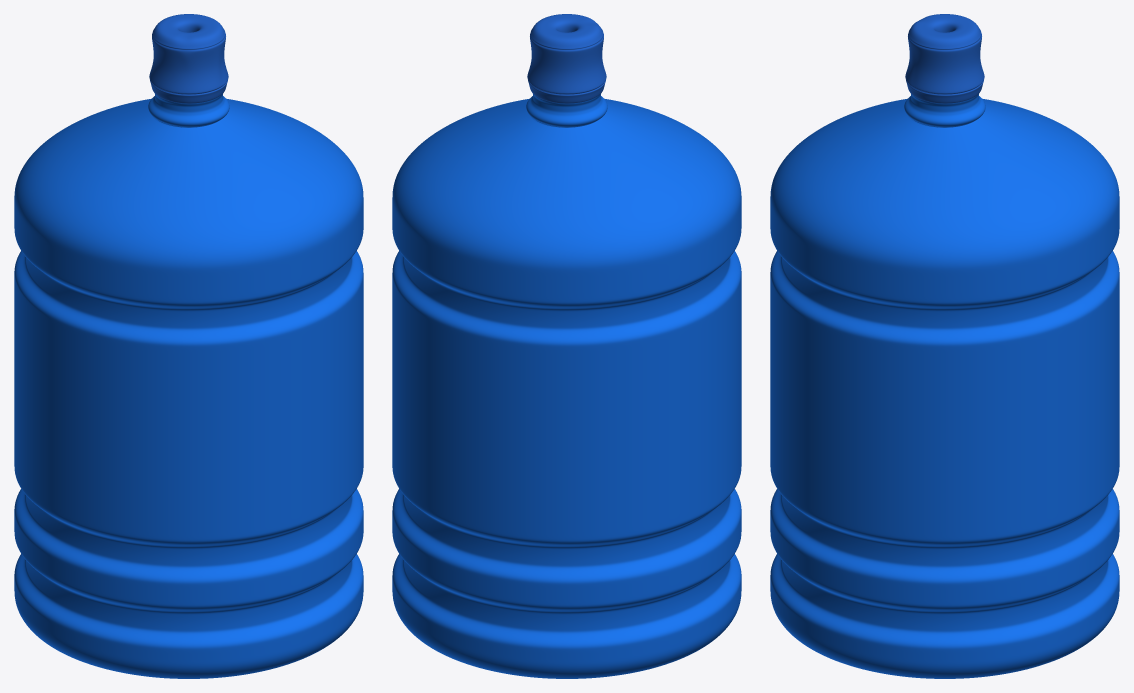
Rendered from bidon-20l.glb.
3 renders of one model, left to right at view 1: azimuth 30°, elevation 25°; view 2: azimuth 150°, elevation 25°; view 3: azimuth 270°, elevation 25°, orthographic.
Visible parts, largest first — view 1: Bidon_20L_Principal, Circle.003_0; view 2: Bidon_20L_Principal, Circle.003_0; view 3: Bidon_20L_Principal, Circle.003_0.
Part boxes in pixels (<box>): Bidon_20L_Principal: <box>14,94,363,678</box>; Circle.003_0: <box>149,14,228,103</box>; Bidon_20L_Principal: <box>392,94,741,678</box>; Circle.003_0: <box>527,14,606,103</box>; Bidon_20L_Principal: <box>770,94,1119,678</box>; Circle.003_0: <box>905,14,984,103</box>.
Size of the model in its own units: 7.05 by 13.13 by 7.05.
